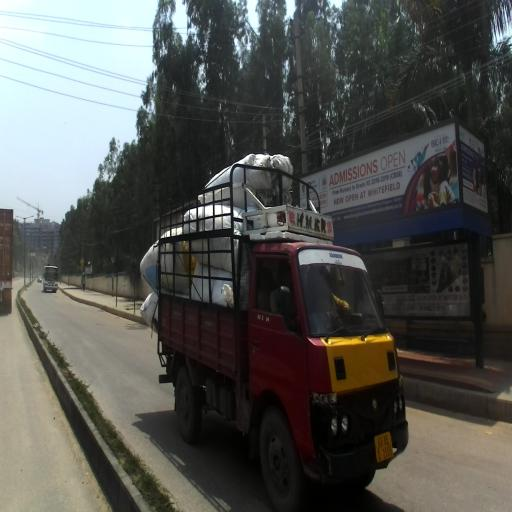street_light_0: (24, 215, 34, 220), (16, 216, 26, 220)
